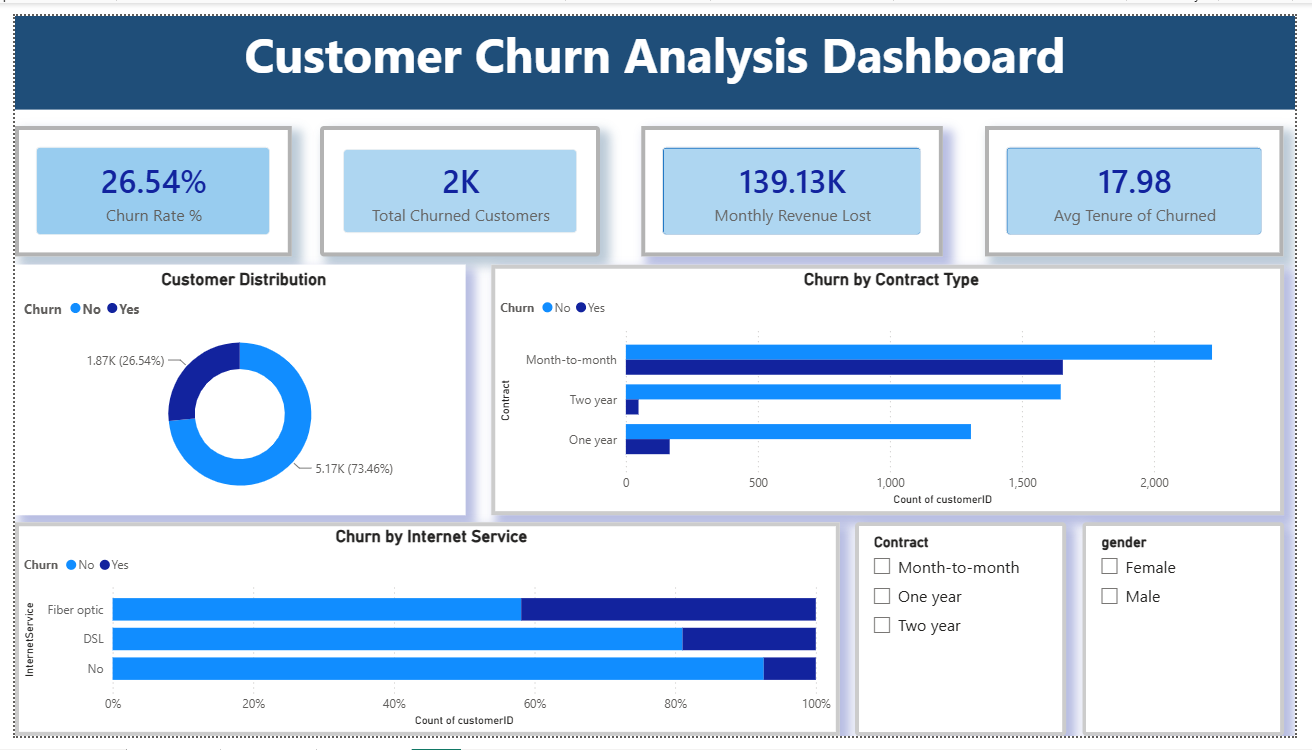

What the dashboard file says about the page in this screenshot:
{"tool":"powerbi","page":{"name":"Page 1","canvas":[1280,720],"ordinal":0},"visuals":[{"type":"textbox","box":[0,0,1280,93.8],"z":0},{"type":"cardVisual","fields":{"Data":["customer_churn.Churn Rate %"]},"box":[0,110,276.7,130],"z":1000},{"type":"cardVisual","fields":{"Data":["customer_churn.Total Churned Customers"]},"box":[305,110,280,130],"z":2000},{"type":"cardVisual","fields":{"Data":["customer_churn.Monthly Revenue Lost"]},"box":[626.7,110,301.7,130],"z":3000},{"type":"cardVisual","fields":{"Data":["customer_churn.Avg Tenure of Churned"]},"box":[970,110,298.8,130],"z":4000},{"type":"donutChart","title":"Customer Distribution","fields":{"Category":["customer_churn.Churn"],"Y":["CountNonNull(customer_churn.customerID)"]},"box":[0,248.8,450,250],"z":5000},{"type":"clusteredBarChart","title":"Churn by Contract Type","fields":{"Category":["customer_churn.Contract"],"Series":["customer_churn.Churn"],"Y":["CountNonNull(customer_churn.customerID)"]},"box":[476.2,248.8,792.5,250],"z":6000},{"type":"hundredPercentStackedBarChart","title":"Churn by Internet Service","fields":{"Category":["customer_churn.InternetService"],"Series":["customer_churn.Churn"],"Y":["CountNonNull(customer_churn.customerID)"]},"box":[0,506.2,825,213.8],"z":7000},{"type":"slicer","fields":{"Values":["customer_churn.Contract"]},"box":[840,506.2,211.2,213.8],"z":8000},{"type":"slicer","fields":{"Values":["customer_churn.gender"]},"box":[1067.5,506.2,201.2,213.8],"z":9000}]}

Visuals, with their boxes in screenshot pixels (x1, y1, x2, y2), scaled from the page's 1280x720 canvas onto the 1312x750 screenshot:
textbox: bbox=(0, 0, 1311, 98)
cardVisual - customer_churn.Churn Rate %: bbox=(0, 115, 284, 250)
cardVisual - customer_churn.Total Churned Customers: bbox=(313, 115, 600, 250)
cardVisual - customer_churn.Monthly Revenue Lost: bbox=(642, 115, 952, 250)
cardVisual - customer_churn.Avg Tenure of Churned: bbox=(994, 115, 1301, 250)
"Customer Distribution" donutChart: bbox=(0, 259, 461, 520)
"Churn by Contract Type" clusteredBarChart: bbox=(488, 259, 1300, 520)
"Churn by Internet Service" hundredPercentStackedBarChart: bbox=(0, 527, 846, 749)
slicer - customer_churn.Contract: bbox=(861, 527, 1077, 749)
slicer - customer_churn.gender: bbox=(1094, 527, 1300, 749)
